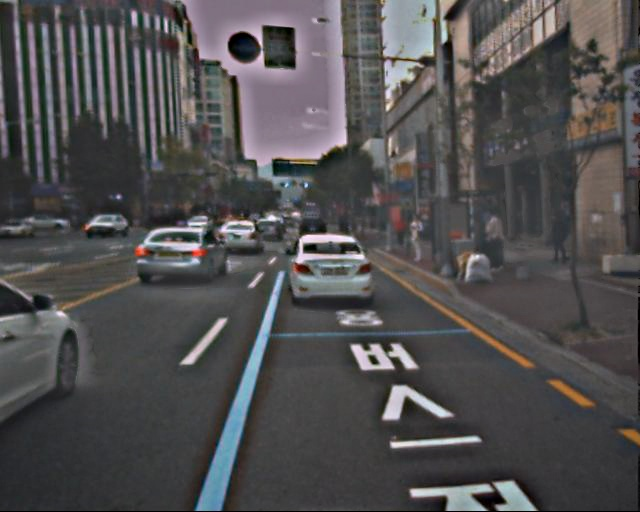person: (481, 210, 508, 276), (545, 204, 570, 266), (406, 214, 427, 265)
